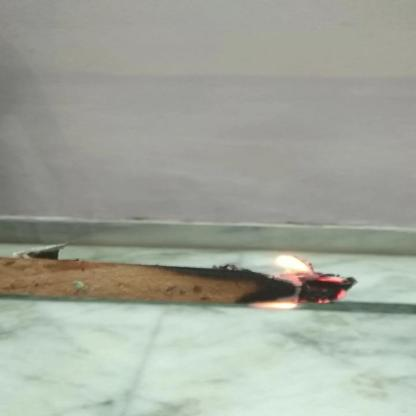fire: (249, 252, 357, 311)
